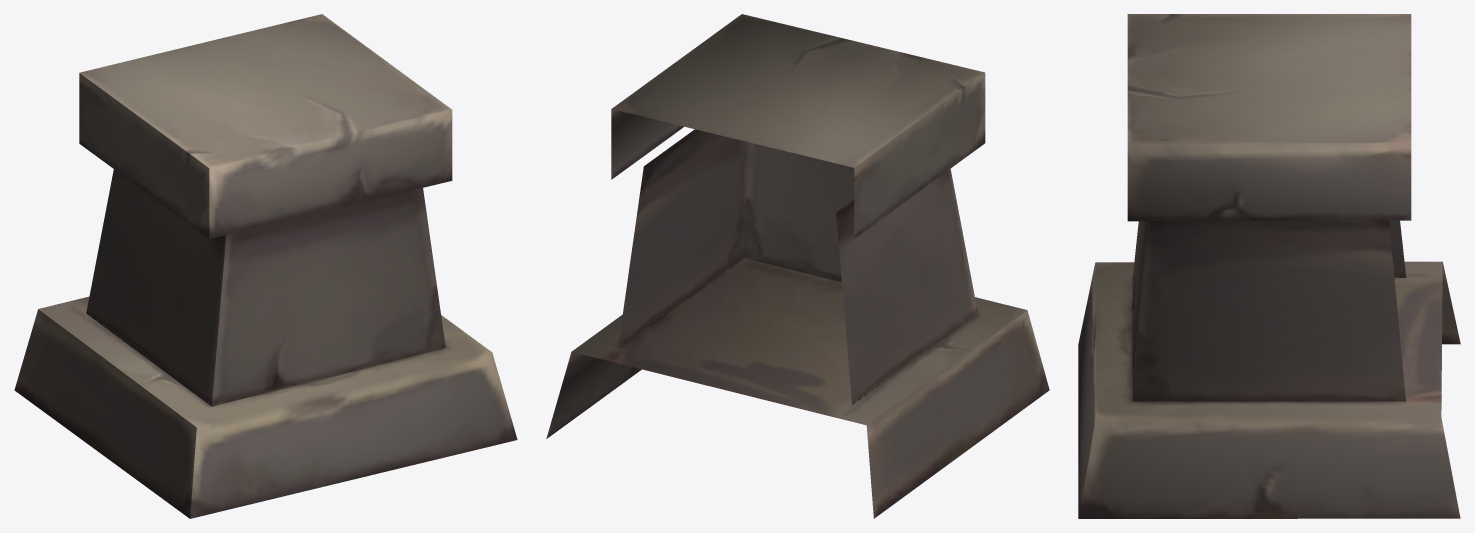
Rendered from Xiaotaizi.FBX.
3 views of the same model, side by side, from view 1: azimuth 30°, elevation 25°; view 2: azimuth 150°, elevation 25°; view 3: azimuth 270°, elevation 25° (orthographic). The views are drawn at different scales.
Visible parts, largest first — view 1: 对象033; view 2: 对象033; view 3: 对象033.
Part boxes in pixels (bbox=[...]): 对象033: bbox=[14, 14, 517, 518]; 对象033: bbox=[546, 14, 1049, 518]; 对象033: bbox=[1078, 14, 1460, 518].
Bounding box in the file's own units: 262 × 248 × 243.
